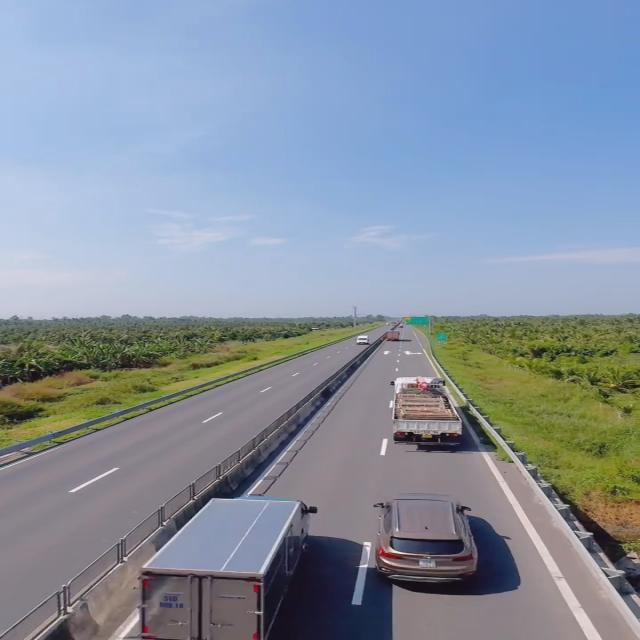car: (366, 493, 482, 587)
truck: (135, 496, 317, 640), (391, 366, 465, 447)
